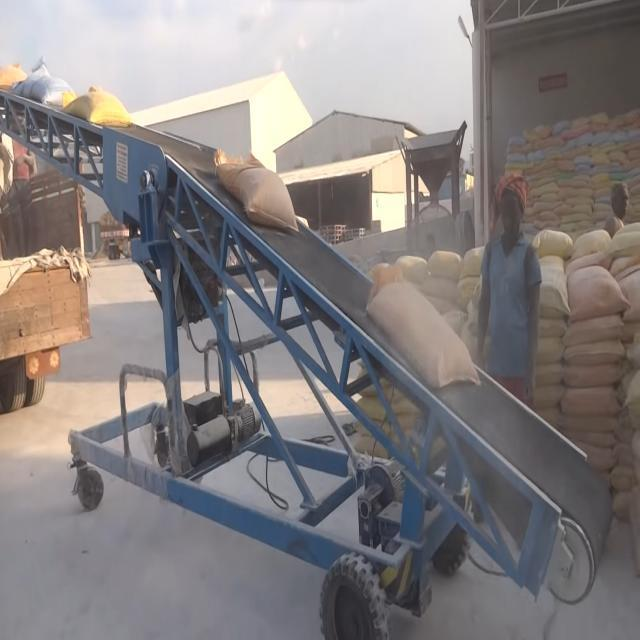gunny_bag: (367, 280, 481, 387), (214, 148, 299, 230), (568, 265, 632, 321), (12, 55, 76, 106), (64, 84, 132, 125), (564, 313, 624, 347), (541, 254, 572, 317), (562, 385, 621, 415), (565, 338, 626, 365), (564, 363, 623, 387), (572, 228, 612, 260), (561, 412, 618, 432), (428, 249, 463, 280), (423, 274, 458, 303), (396, 254, 428, 284), (537, 337, 565, 364), (536, 361, 564, 386), (540, 316, 568, 337)
